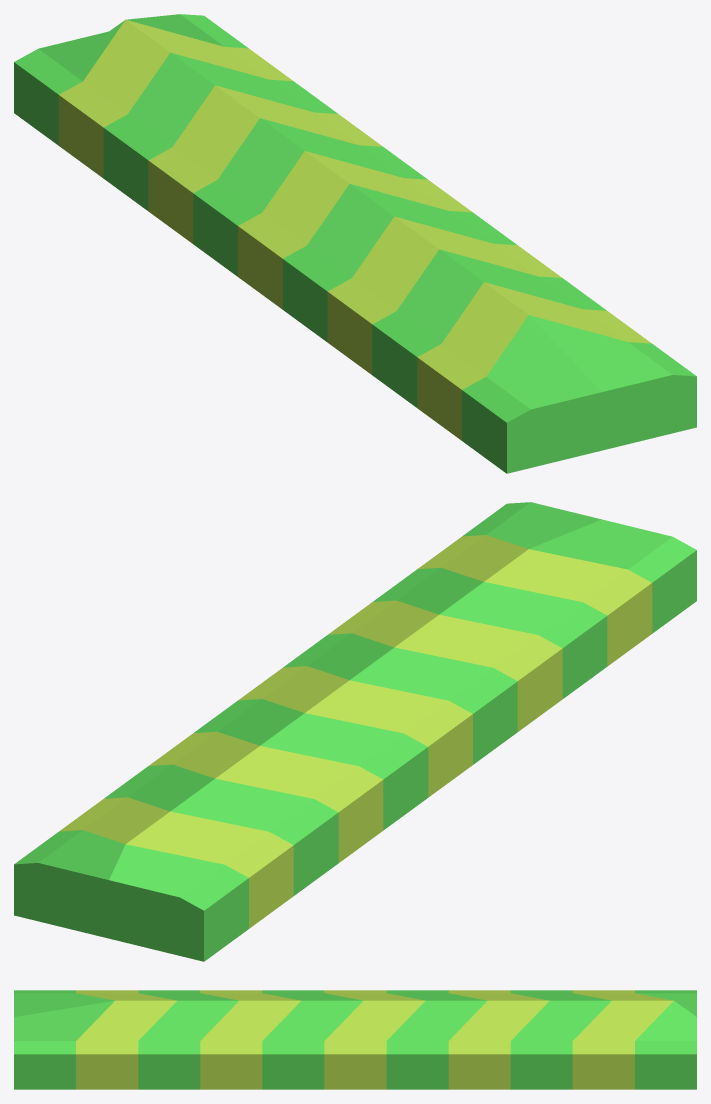
Rendered from FlappyRoad.fbx.
3 views of the same model, one above another, from view 1: azimuth 30°, elevation 25°; view 2: azimuth 150°, elevation 25°; view 3: azimuth 270°, elevation 25° (orthographic). The views are drawn at different scales.
Visible parts, largest first — view 1: Cube; view 2: Cube; view 3: Cube.
Part boxes in pixels (x1,y1,x2,y2): Cube: (14, 14, 696, 473); Cube: (14, 502, 696, 961); Cube: (14, 990, 696, 1089).
Size of the model in its own units: 200 by 82.72 by 898.
